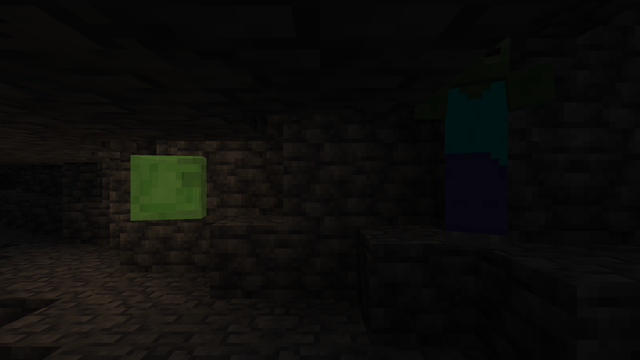slimes: (124, 152, 205, 219)
zombies: (430, 24, 530, 251)
